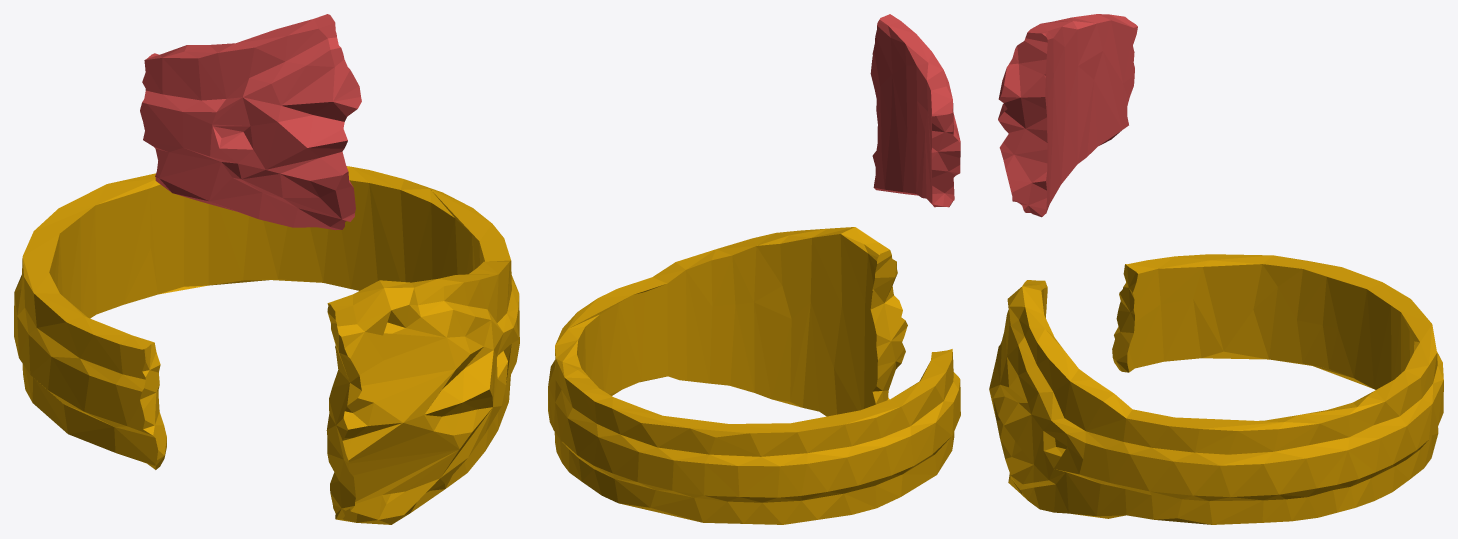
The model's file is fractured_19_2pcs_transformed.glb.
The picture shows the model from 3 angles, left to right: view 1: azimuth 30°, elevation 25°; view 2: azimuth 150°, elevation 25°; view 3: azimuth 270°, elevation 25°; orthographic projection. The views are drawn at different scales.
Visible parts, largest first — view 1: piece_0.obj, piece_1.obj; view 2: piece_0.obj, piece_1.obj; view 3: piece_0.obj, piece_1.obj.
Part boxes in pixels (x1,y1,x2,y2): piece_0.obj: (14, 166, 519, 524); piece_1.obj: (140, 14, 361, 230); piece_0.obj: (548, 227, 960, 524); piece_1.obj: (870, 14, 960, 207); piece_0.obj: (989, 254, 1443, 524); piece_1.obj: (998, 14, 1137, 217).
Bounding box in the file's own units: 0.9505 × 1.07 × 1.
